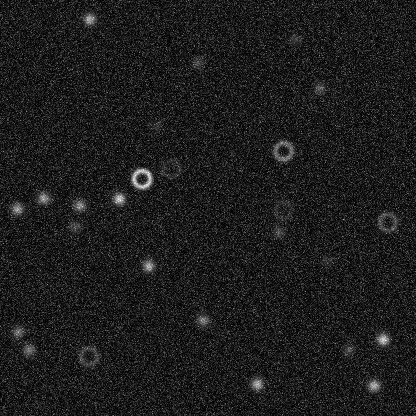Ring: (271, 197, 295, 221), (159, 156, 183, 180), (271, 138, 295, 162), (129, 166, 153, 190), (375, 210, 399, 234), (76, 344, 100, 368)
Spot: (147, 118, 163, 134), (81, 10, 97, 26), (286, 30, 302, 46), (140, 257, 156, 273), (71, 197, 87, 213), (194, 312, 210, 328), (110, 190, 126, 206), (311, 79, 327, 95), (319, 253, 335, 269), (20, 342, 36, 358), (339, 341, 355, 357), (35, 190, 51, 206), (270, 223, 286, 239), (189, 54, 205, 70), (365, 377, 381, 393), (9, 323, 25, 339), (374, 331, 390, 347), (9, 200, 25, 216), (248, 375, 264, 391), (66, 218, 82, 234)
